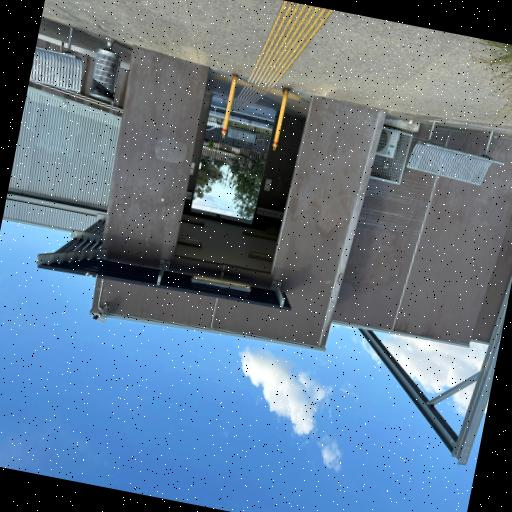Obstruction: (271, 87, 293, 150), (219, 74, 239, 138)
tgsi: (238, 2, 332, 108)
